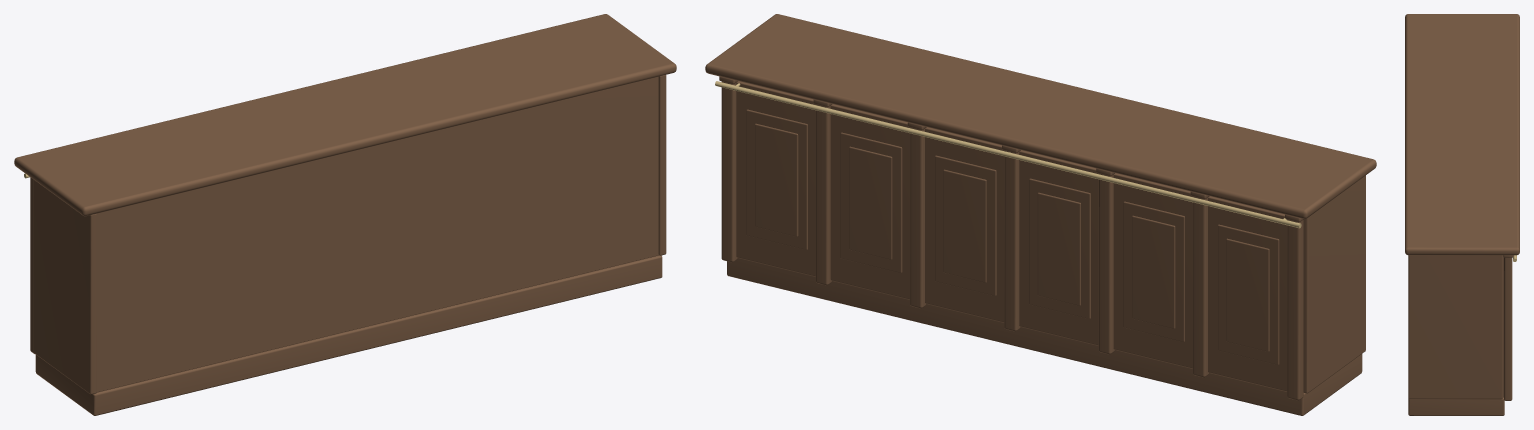
The model's file is lp_front_desk.glb.
3 renders of one model, left to right at view 1: azimuth 30°, elevation 25°; view 2: azimuth 150°, elevation 25°; view 3: azimuth 270°, elevation 25°, orthographic. The views are drawn at different scales.
Parts seen in each view (by area): view 1: lp_front_desk; view 2: lp_front_desk; view 3: lp_front_desk.
Part boxes in pixels (x1,y1,x2,y2): lp_front_desk: (14, 14, 676, 415); lp_front_desk: (705, 14, 1376, 415); lp_front_desk: (1405, 14, 1519, 415).
Size of the model in its own units: 3.3 by 1.13 by 0.68.
